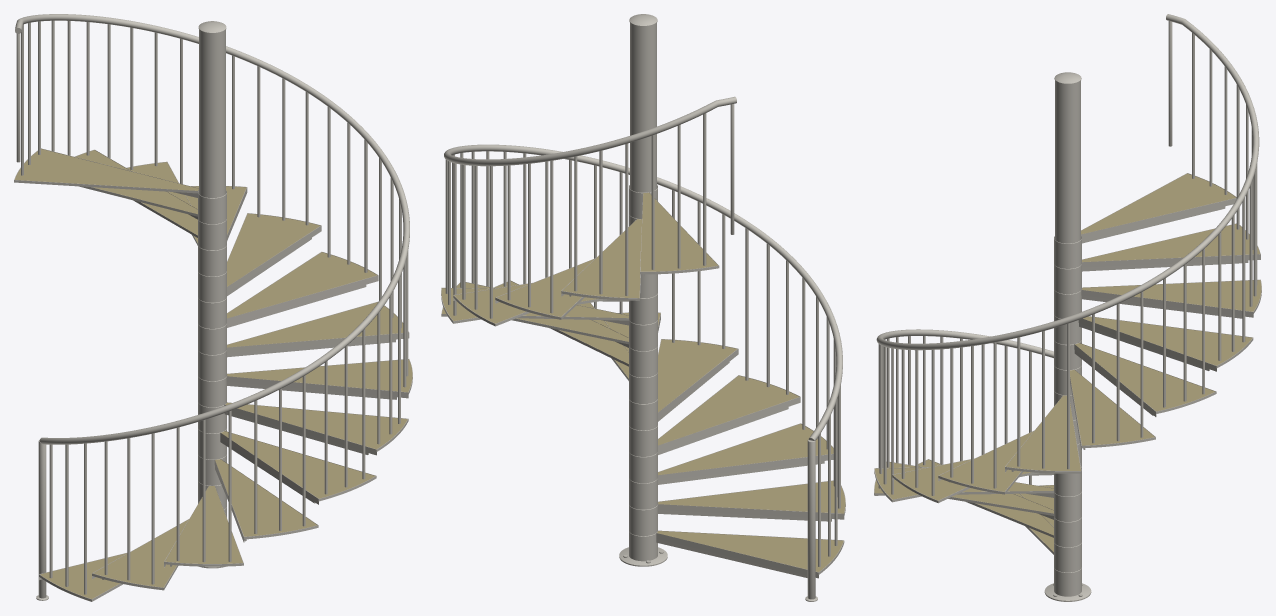
The model's file is Kit_SpiralStair_Steel_Putty.fbx.
3 views of the same model, side by side, from view 1: azimuth 30°, elevation 25°; view 2: azimuth 150°, elevation 25°; view 3: azimuth 270°, elevation 25° (orthographic). The views are drawn at different scales.
Parts seen in each view (by area): view 1: Kit_SpiralStair_Steel_LOD0; view 2: Kit_SpiralStair_Steel_LOD0; view 3: Kit_SpiralStair_Steel_LOD0.
Part boxes in pixels (x1,y1,x2,y2): Kit_SpiralStair_Steel_LOD0: (14,14,412,601); Kit_SpiralStair_Steel_LOD0: (441,14,845,601); Kit_SpiralStair_Steel_LOD0: (874,14,1261,601).
Size of what is drawn, in the model's own units: 2.5 by 3.67 by 2.5.
